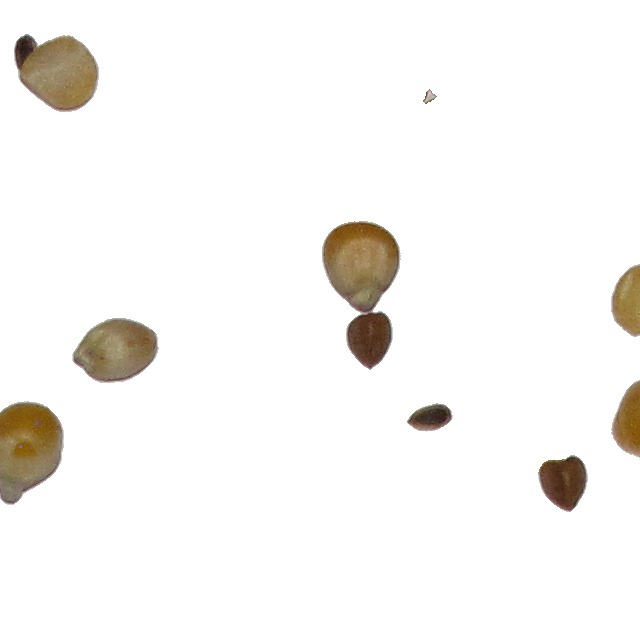buckwheat: (537, 454, 589, 513), (345, 310, 394, 371), (406, 402, 454, 433)
mais: (321, 220, 402, 316), (13, 33, 100, 113), (71, 317, 160, 384), (610, 377, 640, 460), (610, 263, 640, 338)
other: (422, 88, 438, 105)
